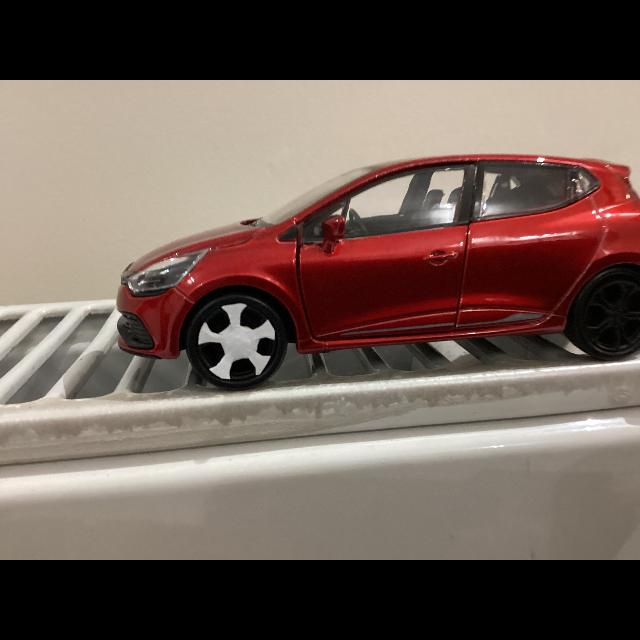Dogru_Jant: (584, 276, 638, 350)
Yanlis_Jant: (198, 304, 278, 382)
